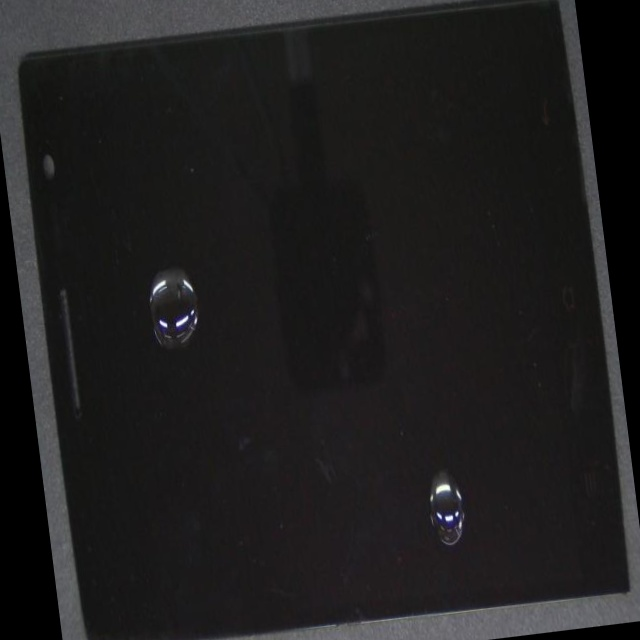oil: (231, 208, 640, 640), (103, 132, 285, 450)
